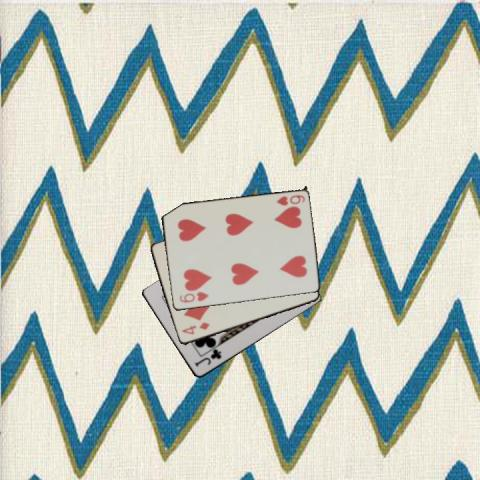4d: (178, 319, 210, 336)
6h: (176, 289, 209, 304), (273, 192, 306, 207)
Jc: (192, 346, 223, 368)
